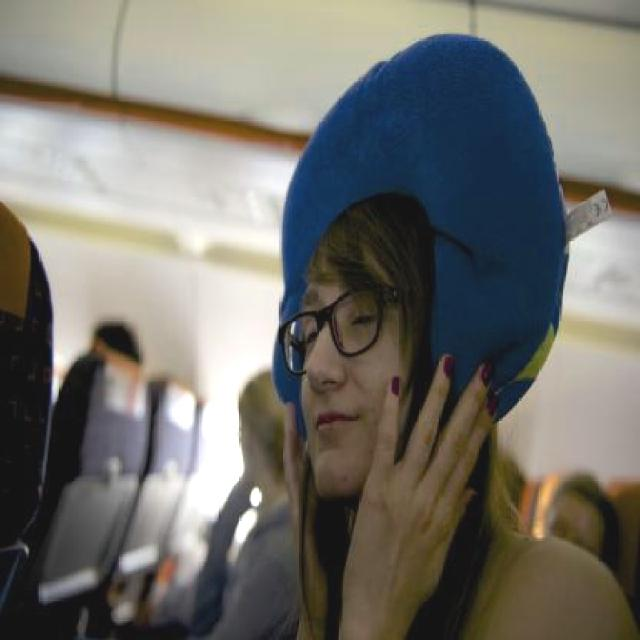face_nomask: (292, 284, 393, 453)
glasses: (281, 276, 413, 381)
hand_noglove: (338, 360, 513, 603)
head_nohelmet: (270, 136, 553, 278)
person: (255, 6, 554, 640)
